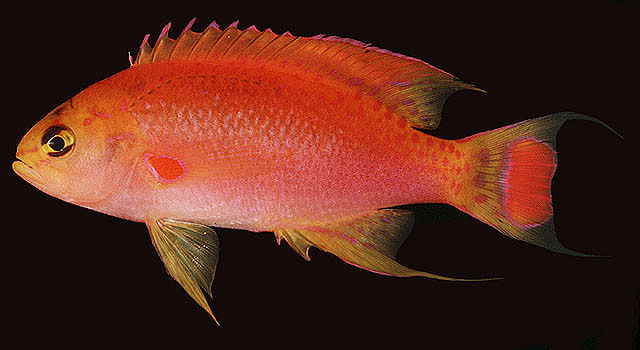fish: (12, 17, 623, 327)
